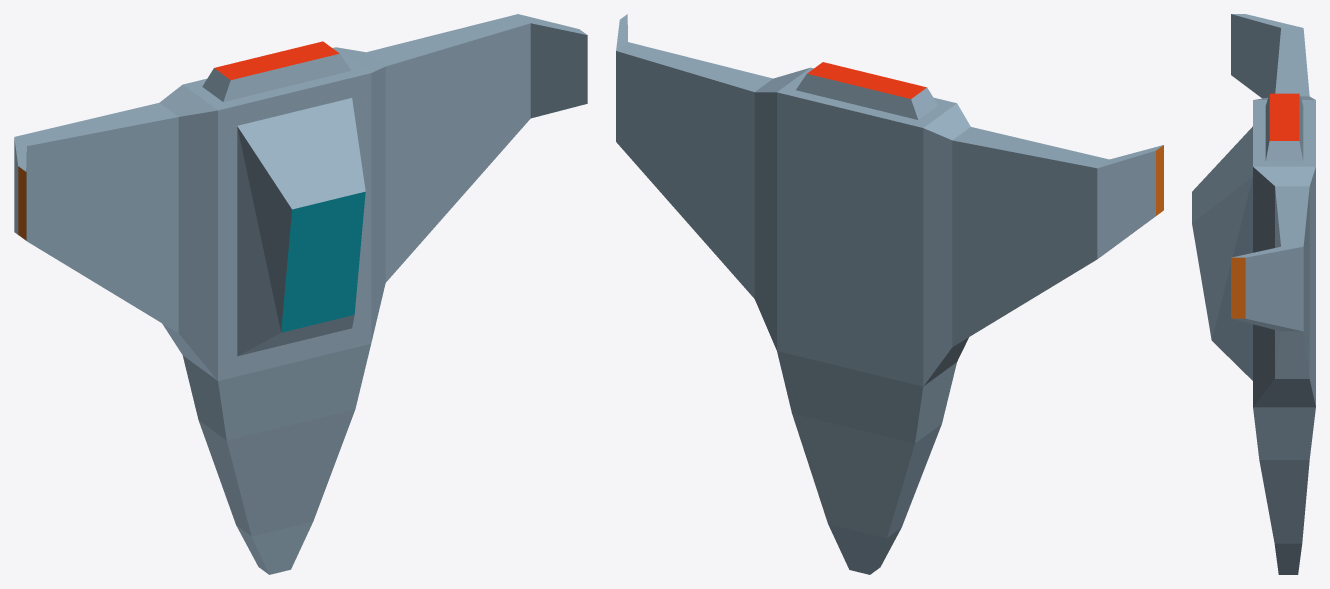
File: nave.obj
3 renders of one model, left to right at view 1: azimuth 30°, elevation 25°; view 2: azimuth 150°, elevation 25°; view 3: azimuth 270°, elevation 25°, orthographic. The views are drawn at different scales.
Visible parts, largest first — view 1: Quetzal_01; view 2: Quetzal_01; view 3: Quetzal_01.
Boxes of the visible parts, bbox=[...] form: Quetzal_01: bbox=[14, 14, 587, 574]; Quetzal_01: bbox=[616, 14, 1163, 574]; Quetzal_01: bbox=[1192, 14, 1315, 574].
Bounding box in the file's own units: 5.86 × 5.08 × 1.26.
